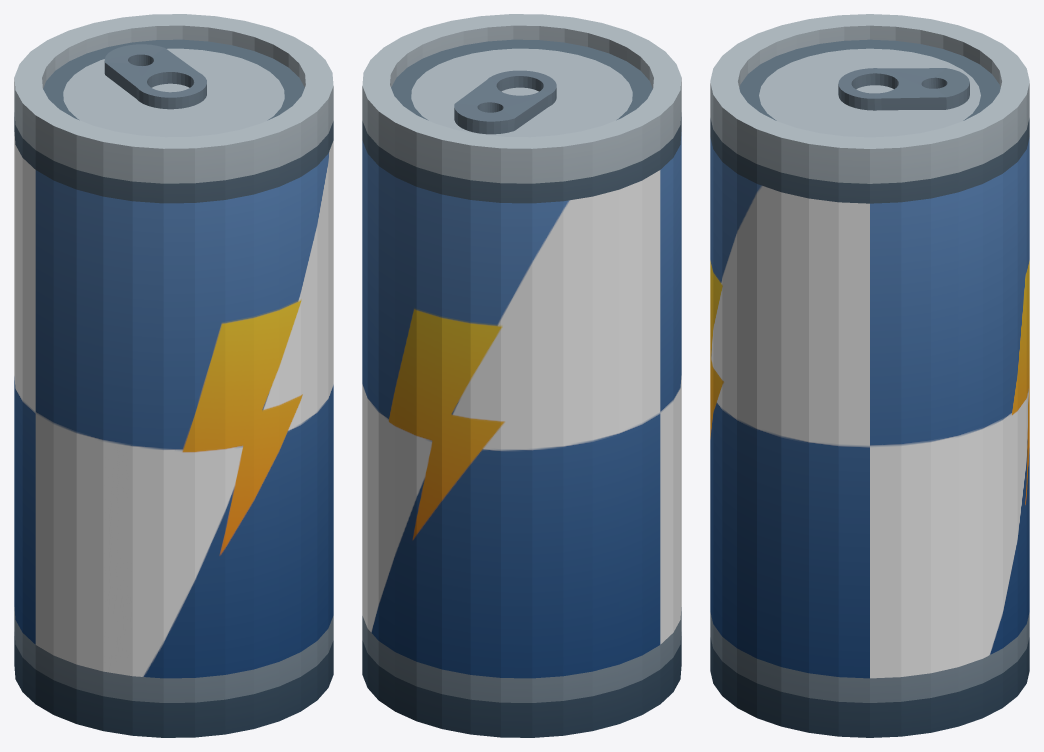
The model's file is Energy Drink.fbx.
The picture shows the model from 3 angles, left to right: view 1: azimuth 30°, elevation 25°; view 2: azimuth 150°, elevation 25°; view 3: azimuth 270°, elevation 25°; orthographic projection.
Parts seen in each view (by area): view 1: Energy Drink; view 2: Energy Drink; view 3: Energy Drink.
Part boxes in pixels (x1,y1,x2,y2): Energy Drink: (14, 14, 333, 737); Energy Drink: (362, 14, 681, 737); Energy Drink: (710, 14, 1029, 737).
Size of the model in its own units: 6.36 by 12.94 by 6.36.
